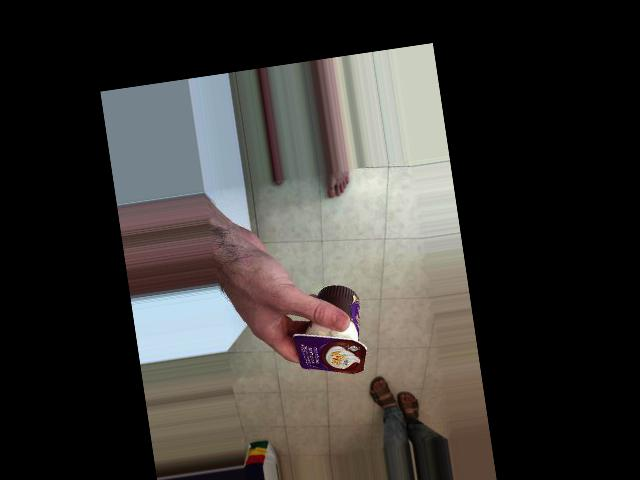milky: (304, 313, 402, 384)
